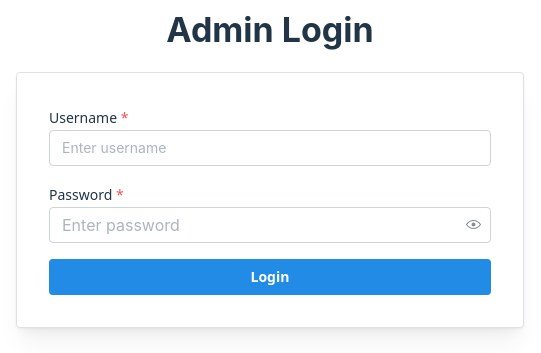
Login component › disables submit button while login is in progress
In the field labelled "Username *": (270, 148) x1=49 y1=130 x2=491 y2=166, type "admin"
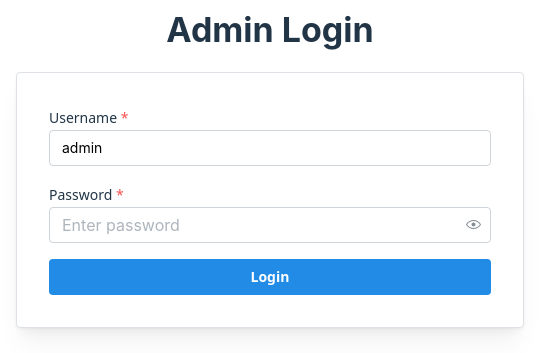
In the password field labelled "Password *": (270, 225) x1=50 y1=208 x2=490 y2=242, type "password"
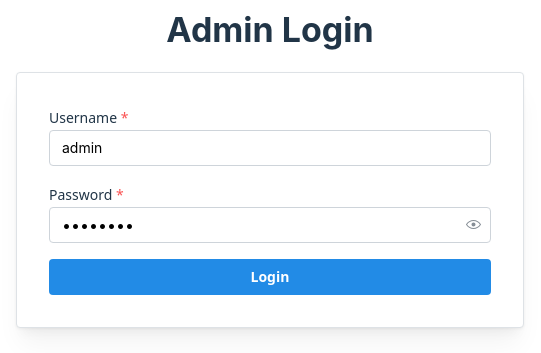
Click the button "Login": (270, 277) x1=49 y1=259 x2=491 y2=295
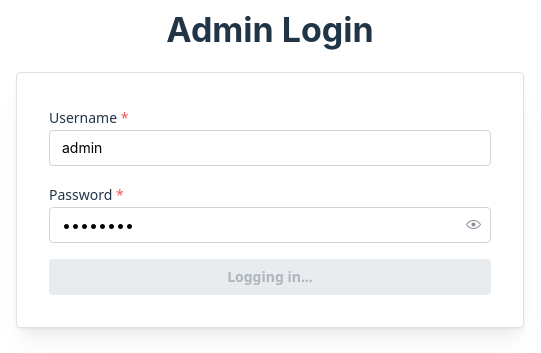
Check: the button named "login" is disabled, box x1=49 y1=259 x2=491 y2=295
